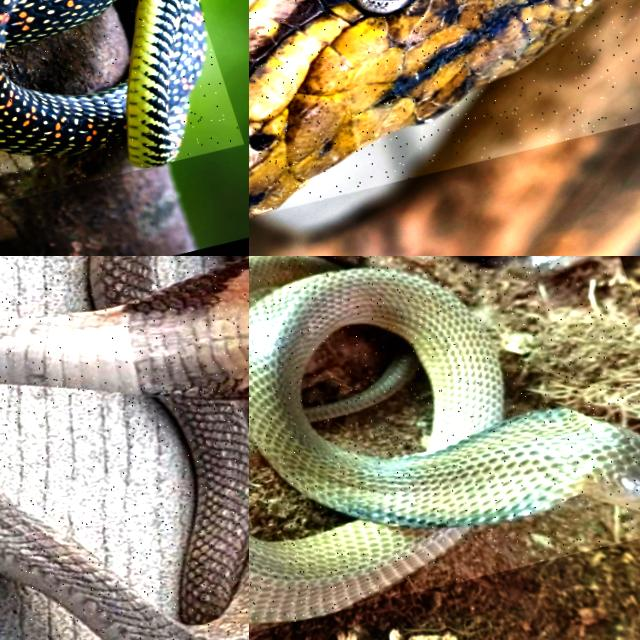Chrysopelea ornata: (0, 0, 203, 164)
Malayopython reticulatus: (249, 0, 597, 216)
Naja kaouthia: (0, 256, 248, 639)
Naja siamensis: (249, 256, 639, 622)
snake: (249, 256, 639, 622), (0, 256, 248, 639), (249, 0, 597, 216), (0, 0, 203, 164)
